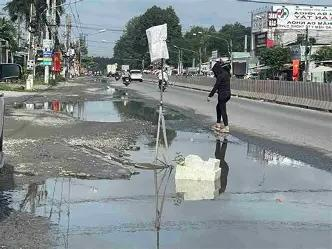ROAD_OBSTACLE: (57, 100, 332, 235), (144, 22, 172, 165), (174, 150, 222, 180)
